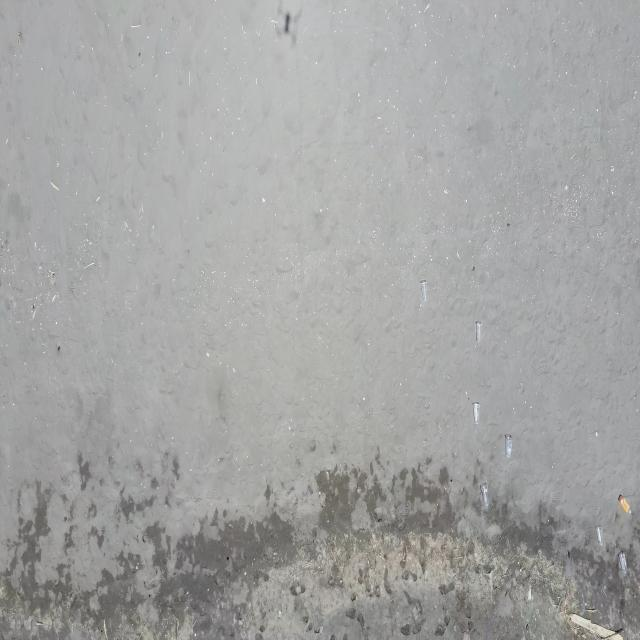plastic-bottle: (618, 494, 632, 514)
takeaway-cup: (419, 276, 428, 301), (620, 550, 628, 576), (481, 483, 489, 508), (504, 436, 512, 460), (474, 319, 482, 341), (472, 402, 479, 426), (596, 524, 603, 544)
